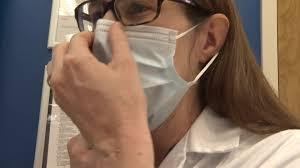Wearing Mask: (73, 0, 244, 134)
